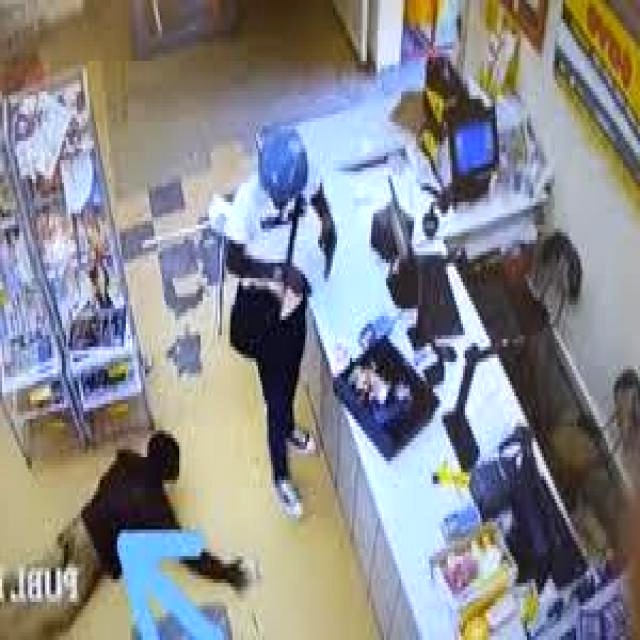gun: (314, 217, 341, 286)
